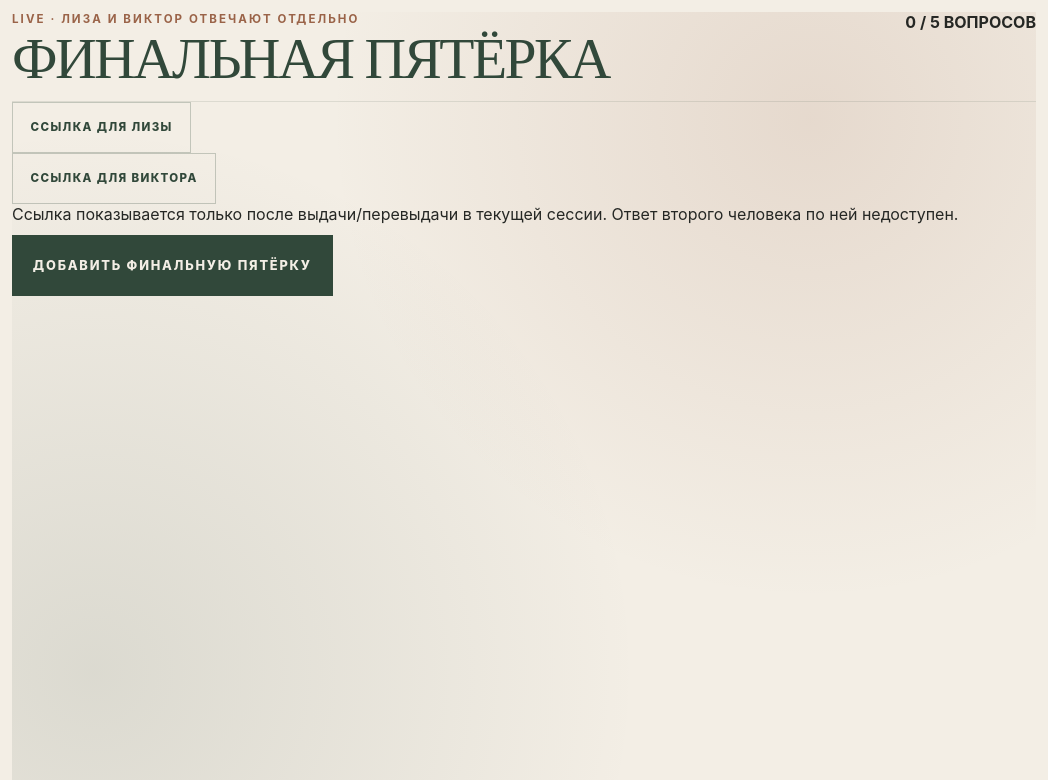
Test: AdminFinalFivePanel › seeds the exact final five when the pool is missing
Click the button "ДОБАВИТЬ ФИНАЛЬНУЮ ПЯТЁРКУ": (172, 266) 12,235 -> 333,296
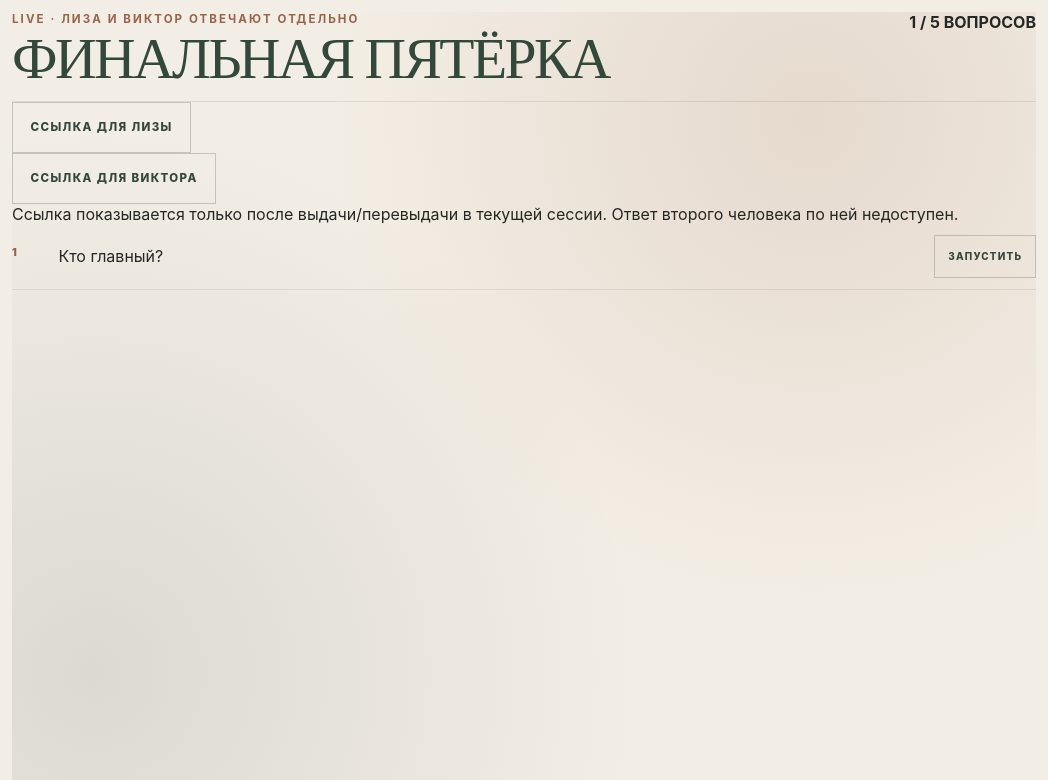
Expected: the text "Кто главный?" is shown, 58,246 -> 163,266
